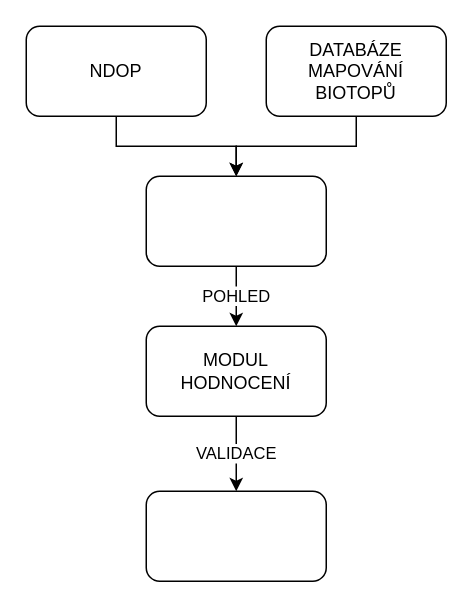
The diagram is 473 pixels wide and 608 high, and some of its shapes have lost their labels. Each missing label, with the centre of its shape:
"INTERNÍ DATABÁZE HODNOCENÍ" goes at (x=235, y=220).
"PORTÁL ISOP" goes at (x=235, y=535).
